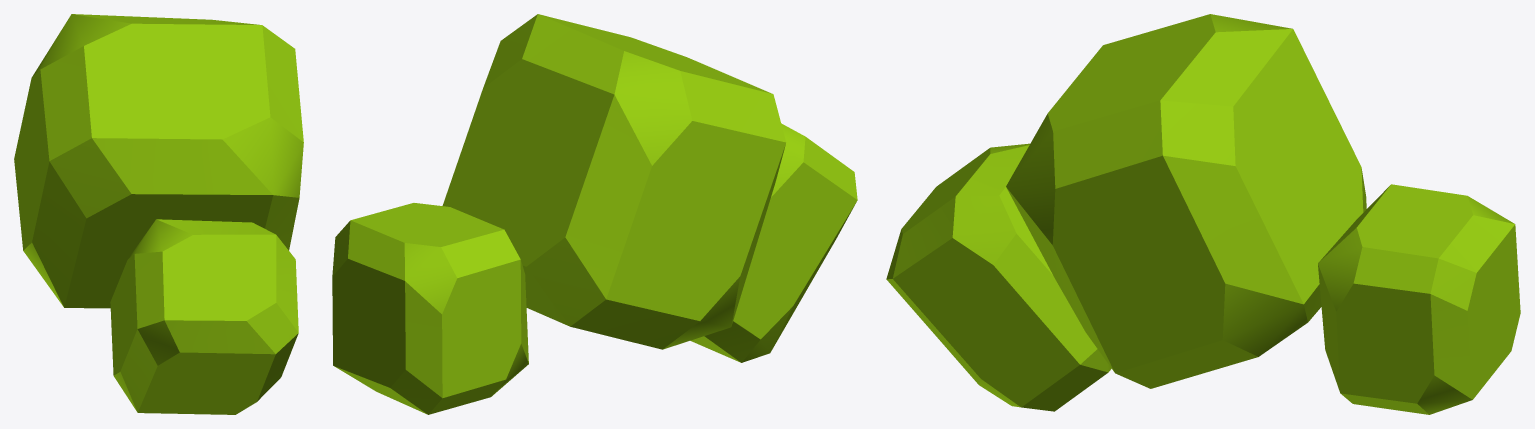
The model's file is tree_big_boxy_bevel_6.fbx.
3 renders of one model, left to right at view 1: azimuth 30°, elevation 25°; view 2: azimuth 150°, elevation 25°; view 3: azimuth 270°, elevation 25°, orthographic. The views are drawn at different scales.
Visible parts, largest first — view 1: tree_big_boxy_bevel_6; view 2: tree_big_boxy_bevel_6; view 3: tree_big_boxy_bevel_6.
Part boxes in pixels (box(x1,y1,x2,y2)): tree_big_boxy_bevel_6: box(14, 14, 303, 414); tree_big_boxy_bevel_6: box(332, 14, 857, 414); tree_big_boxy_bevel_6: box(886, 14, 1520, 414).
Bounding box in the file's own units: 148 × 158 × 247.
